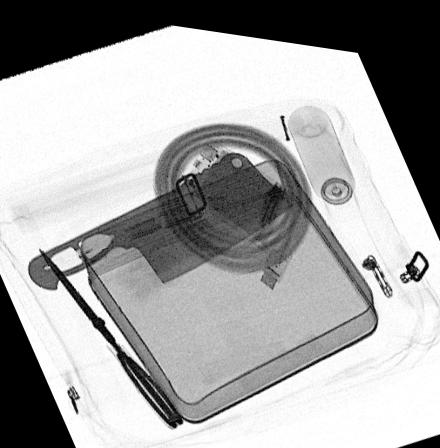Knife: (27, 143, 298, 289)
Powerbank: (174, 121, 306, 252)
Scissors: (34, 241, 184, 423)
Sprayer: (287, 96, 360, 210)
